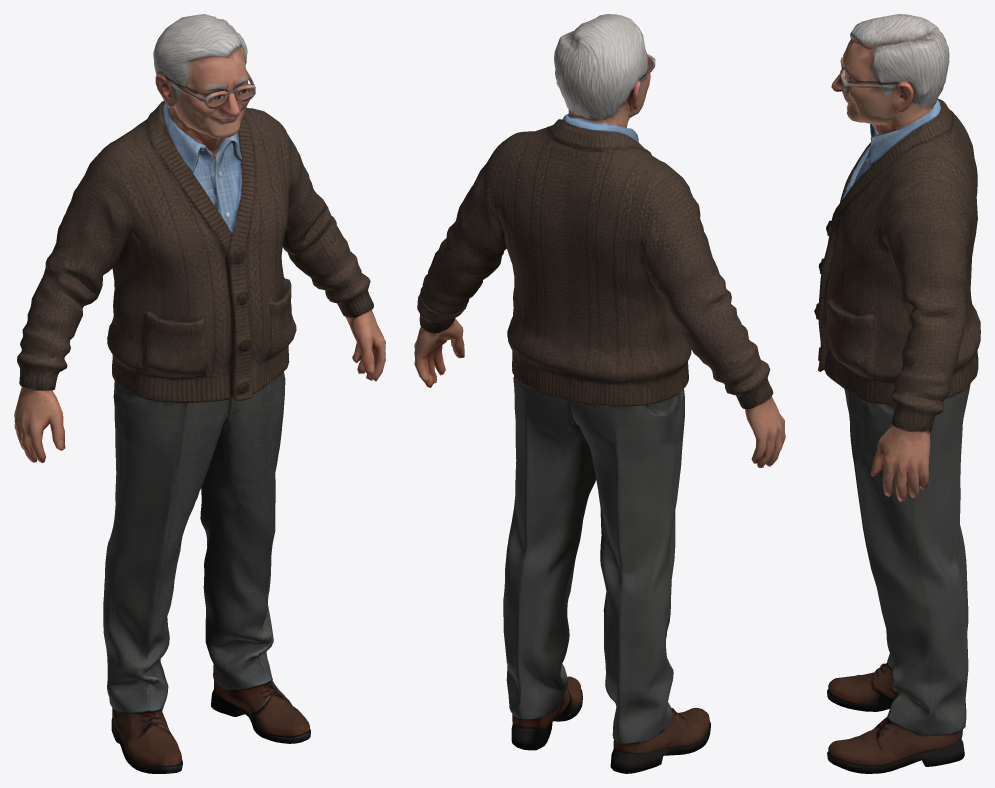
File: chris.glb
3 renders of one model, left to right at view 1: azimuth 30°, elevation 25°; view 2: azimuth 150°, elevation 25°; view 3: azimuth 270°, elevation 25°, orthographic.
Parts seen in each view (by area): view 1: tripo_node_6df5c14d-a185-4a31-abeb-d25f151a797e; view 2: tripo_node_6df5c14d-a185-4a31-abeb-d25f151a797e; view 3: tripo_node_6df5c14d-a185-4a31-abeb-d25f151a797e.
Boxes of the visible parts, <box> form: tripo_node_6df5c14d-a185-4a31-abeb-d25f151a797e: <box>14,14,385,773</box>; tripo_node_6df5c14d-a185-4a31-abeb-d25f151a797e: <box>414,14,785,773</box>; tripo_node_6df5c14d-a185-4a31-abeb-d25f151a797e: <box>814,14,980,773</box>.
Bounding box in the file's own units: 0.955 × 1.8 × 0.3798.
Materials: 1 (1 with a texture image).
